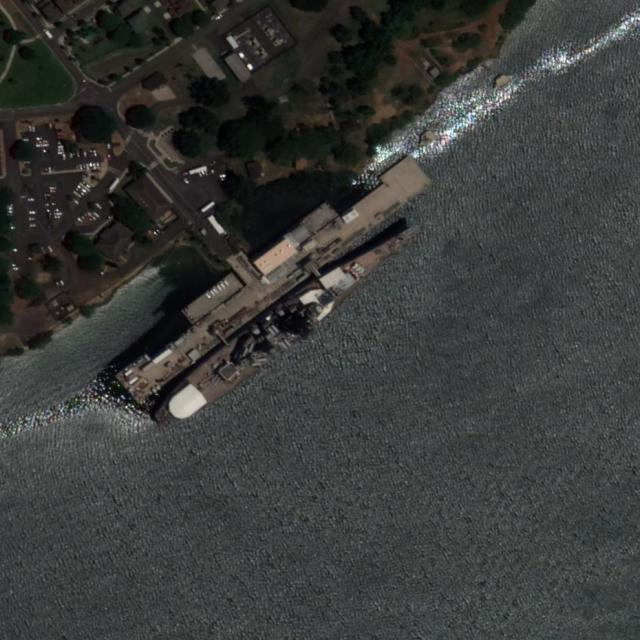Dock: (119, 158, 434, 410)
Other Warship: (149, 209, 431, 436)
